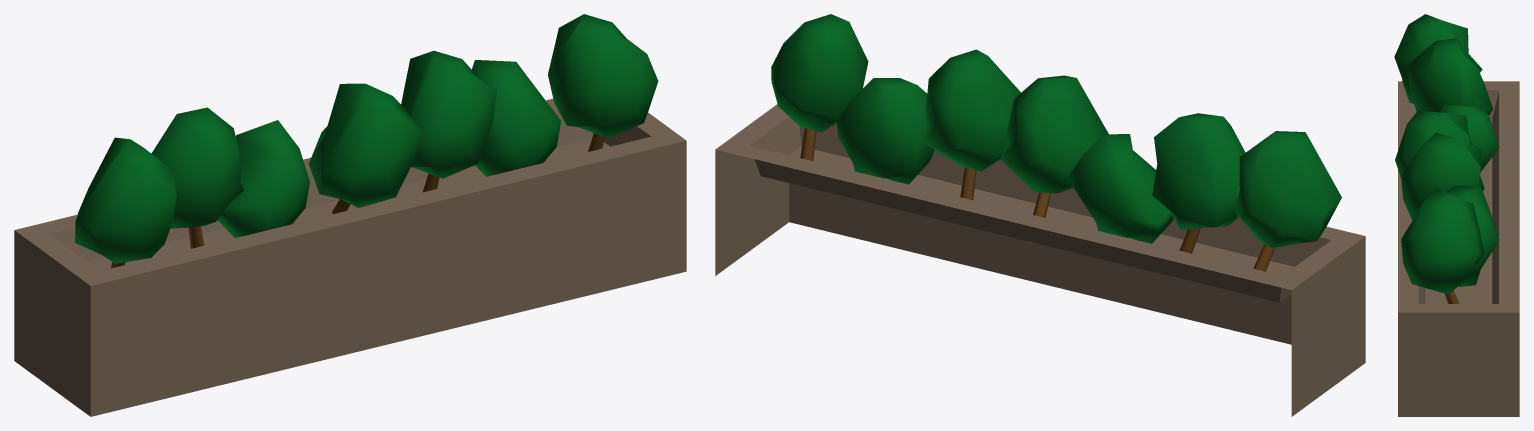
File: plant_1.fbx
3 views of the same model, side by side, from view 1: azimuth 30°, elevation 25°; view 2: azimuth 150°, elevation 25°; view 3: azimuth 270°, elevation 25° (orthographic). The views are drawn at different scales.
Visible parts, largest first — view 1: plant_1; view 2: plant_1; view 3: plant_1.
Part boxes in pixels (bbox=[...]): plant_1: bbox=[14, 14, 686, 416]; plant_1: bbox=[715, 14, 1365, 416]; plant_1: bbox=[1394, 14, 1519, 416].
Bounding box in the file's own units: 152 × 59.9 × 34.8.
1 material, 1 textured.
